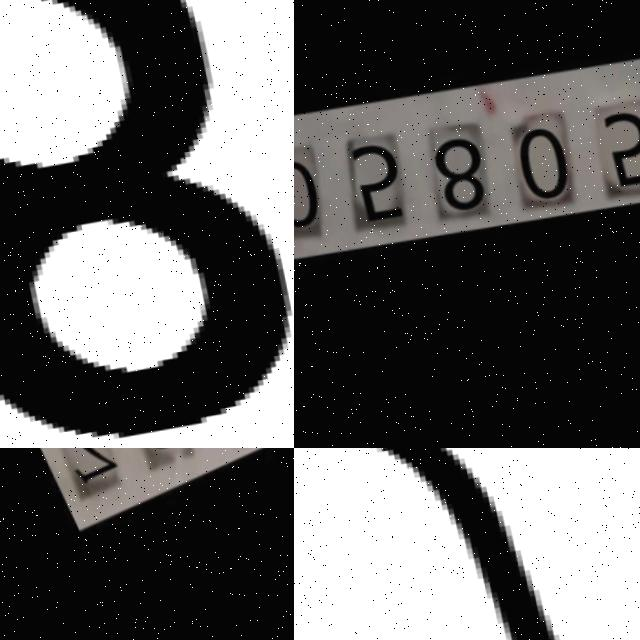0: (497, 124, 569, 221), (294, 154, 317, 245)
5: (331, 139, 403, 238), (582, 111, 640, 206)
7: (31, 448, 118, 509)
8: (0, 0, 294, 448), (415, 134, 487, 228)
9: (105, 448, 188, 477)
U: (294, 448, 640, 640)
